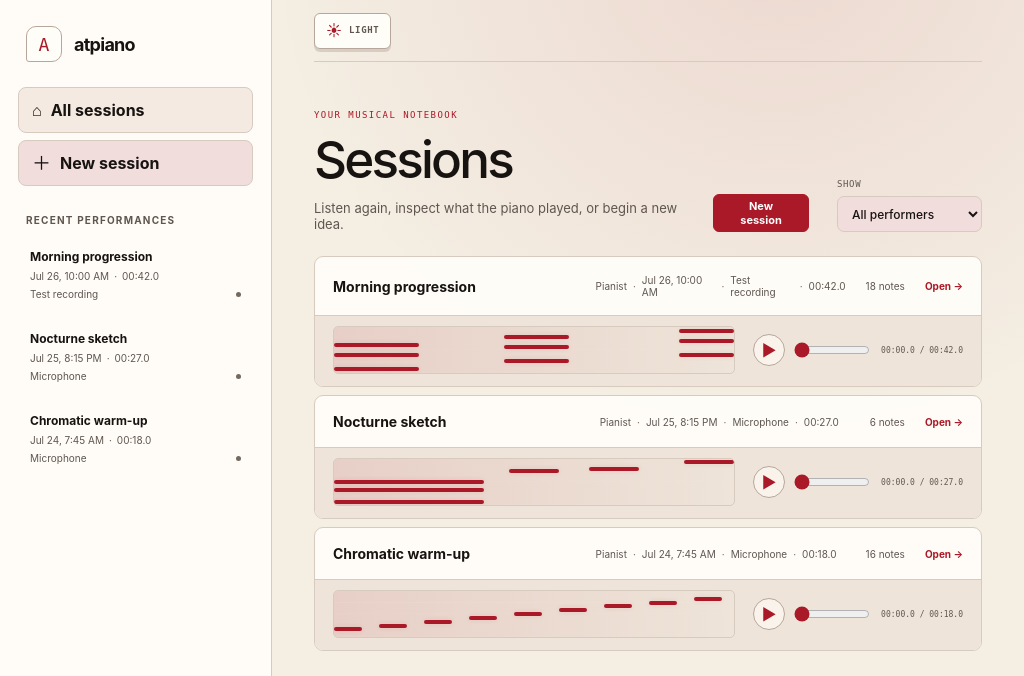
shared application › seeks inline and keeps playback while opening its piano roll
Click the button named "Play Morning progression recording": click(769, 350) x1=753 y1=334 x2=785 y2=366
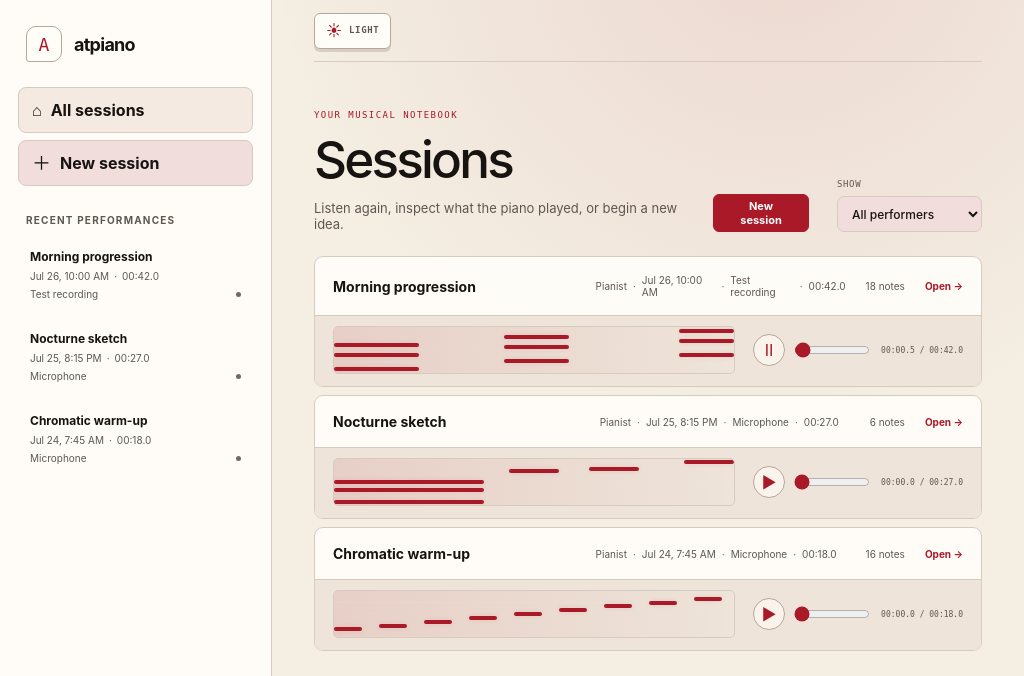
Result: the button named "Pause Morning progression recording" is shown at x1=753 y1=334 x2=785 y2=366
Set the slider named "Seek Morning progression recording" next to "00:00.5" to "96000": (805, 350) x1=794 y1=342 x2=870 y2=358
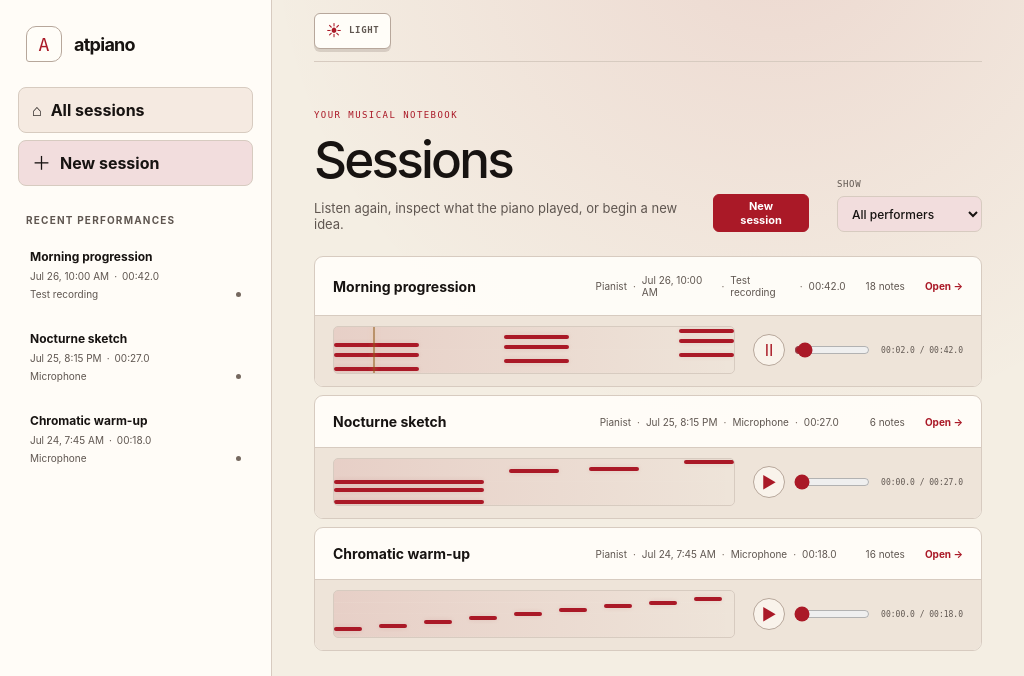
Click the button named "Open Morning progression from its piano roll": click(534, 350) x1=333 y1=326 x2=735 y2=374
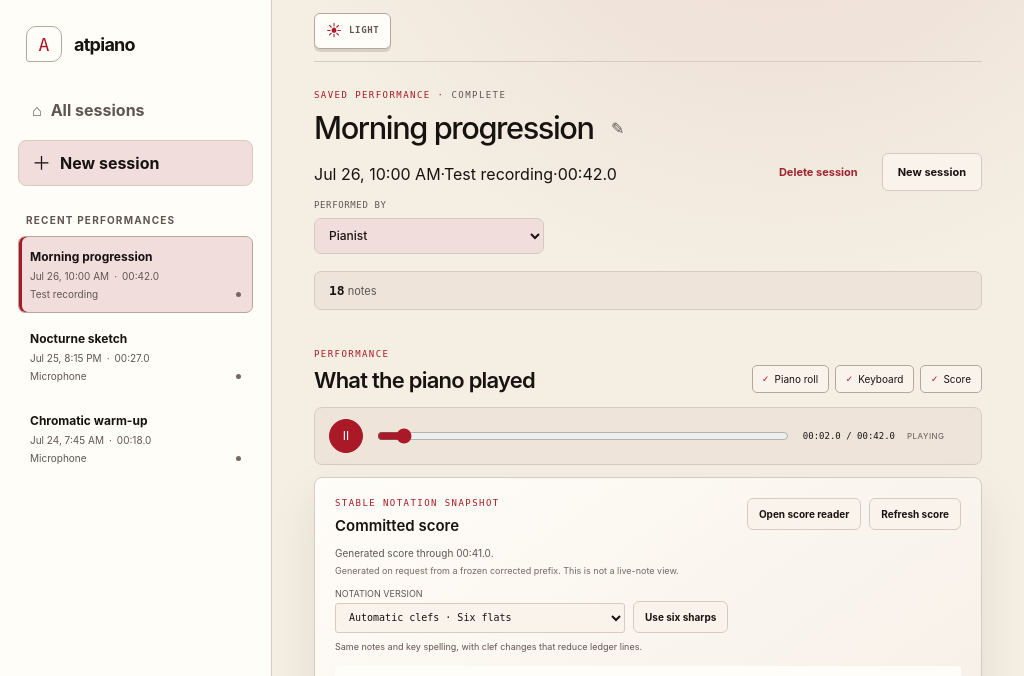
Result: the heading "Morning progression" is shown at x1=314 y1=111 x2=594 y2=145
Click the button with aria-label "Atpiano Sessions home": click(80, 44) x1=26 y1=26 x2=135 y2=62
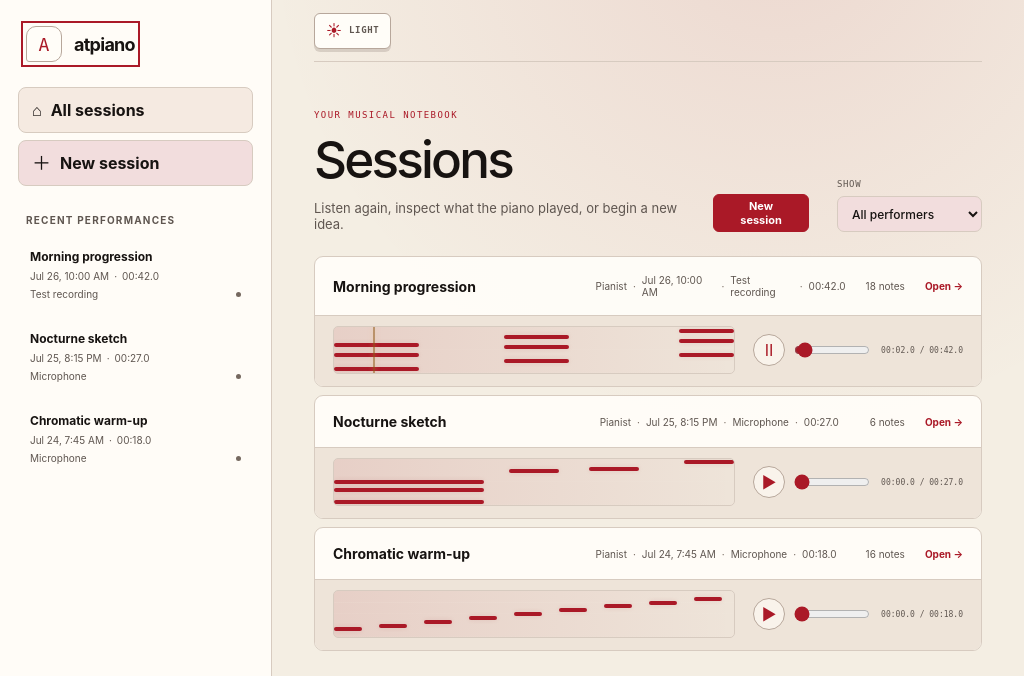
Result: the button named "Pause Morning progression recording" is shown at x1=753 y1=334 x2=785 y2=366
Result: the heading "Sessions" is shown at x1=314 y1=128 x2=512 y2=190
